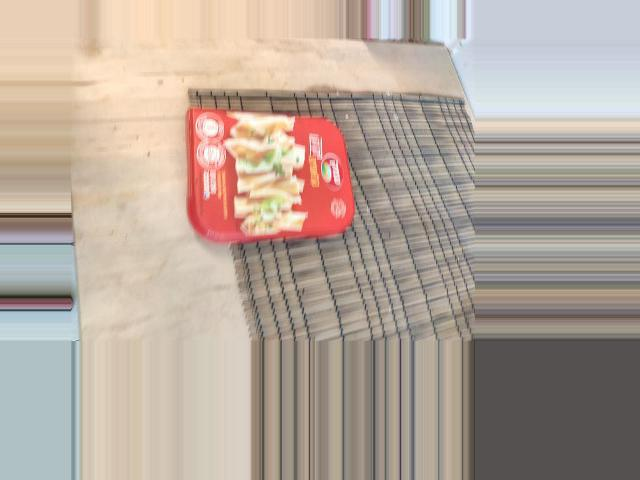cheese: (239, 162, 368, 344)
